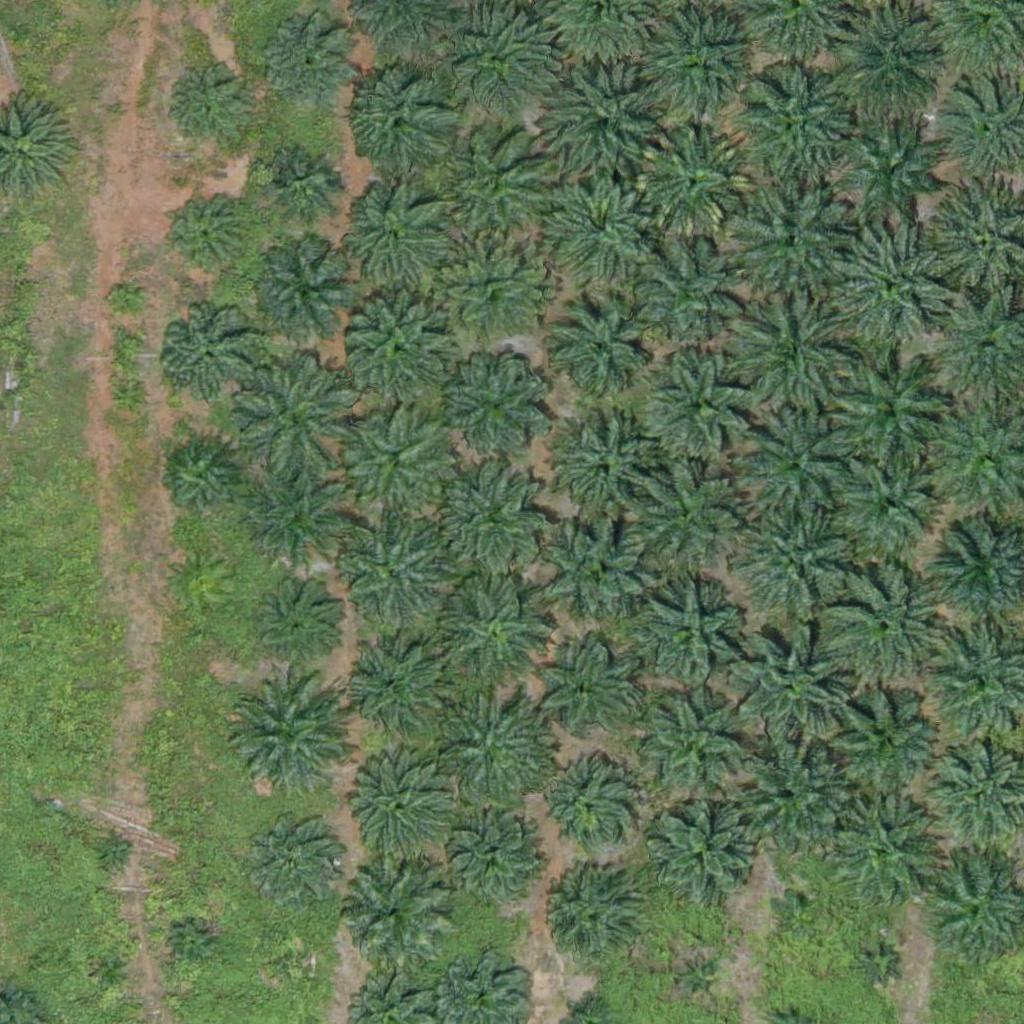Kelapa_Sawit: (823, 223, 948, 349), (731, 58, 856, 184), (729, 178, 854, 304), (719, 293, 844, 419), (229, 352, 354, 478), (222, 672, 347, 798), (632, 686, 757, 812), (735, 401, 860, 527), (733, 495, 858, 621), (728, 630, 853, 756), (728, 745, 853, 871), (825, 340, 950, 466), (829, 439, 954, 565), (825, 560, 950, 686), (815, 673, 940, 799), (434, 687, 559, 812), (643, 2, 756, 116), (438, 128, 551, 241), (432, 234, 545, 347), (344, 295, 457, 408), (334, 179, 447, 292), (344, 63, 457, 176), (442, 345, 555, 458), (550, 415, 663, 528), (333, 855, 446, 968), (437, 460, 550, 573), (437, 573, 550, 686), (535, 511, 648, 624), (649, 801, 762, 914), (629, 462, 741, 576), (637, 124, 749, 237), (636, 240, 748, 353), (543, 293, 655, 406), (543, 169, 655, 282), (550, 67, 662, 180), (441, 2, 553, 115), (644, 349, 756, 462), (342, 411, 454, 524), (243, 462, 355, 575), (338, 518, 450, 631), (340, 751, 452, 864), (631, 575, 743, 688), (828, 801, 940, 914), (262, 13, 362, 114), (254, 244, 354, 345), (243, 811, 343, 912), (346, 639, 446, 740), (444, 811, 544, 912), (534, 639, 634, 740), (536, 756, 636, 857), (534, 869, 634, 970), (841, 117, 941, 217), (158, 307, 258, 407), (167, 65, 255, 153), (165, 193, 253, 281), (255, 576, 342, 664), (164, 441, 239, 517), (266, 148, 341, 223), (853, 939, 903, 989), (669, 954, 719, 1004), (772, 885, 822, 935), (93, 952, 131, 990), (94, 833, 132, 871), (108, 284, 145, 322), (279, 946, 317, 983), (175, 926, 212, 964)
